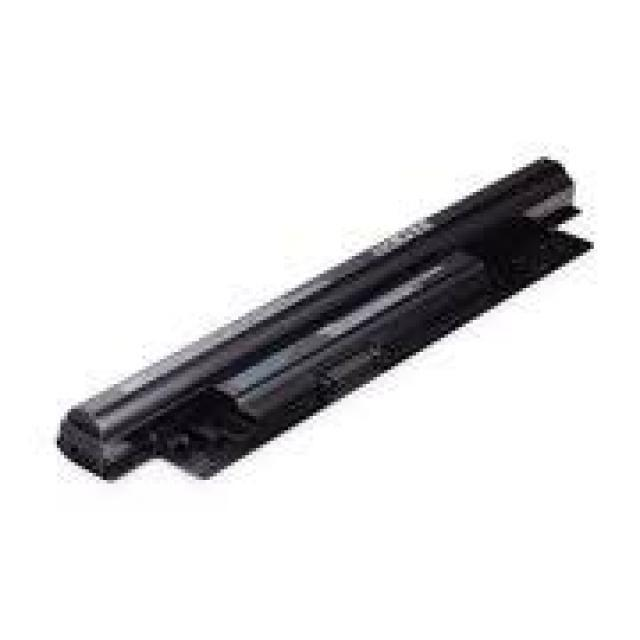battery: (56, 150, 587, 492)
